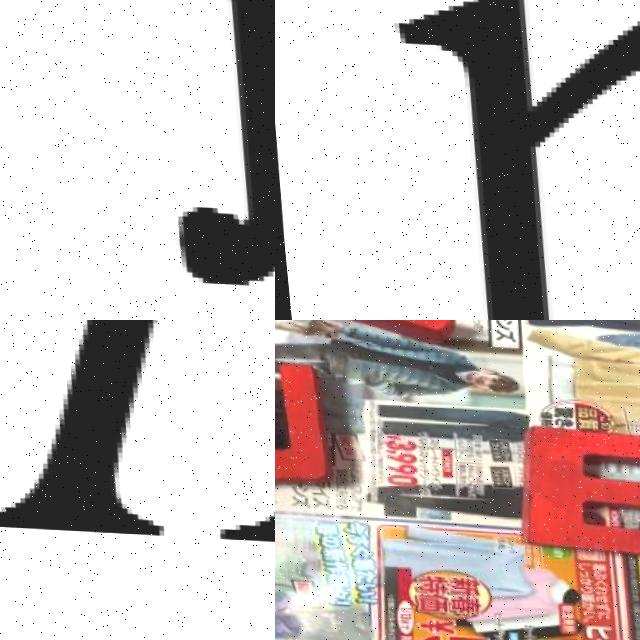E: (514, 421, 640, 551)
J: (123, 0, 275, 291)
N: (0, 320, 275, 557)
R: (363, 0, 640, 320)
W: (275, 355, 336, 480)
